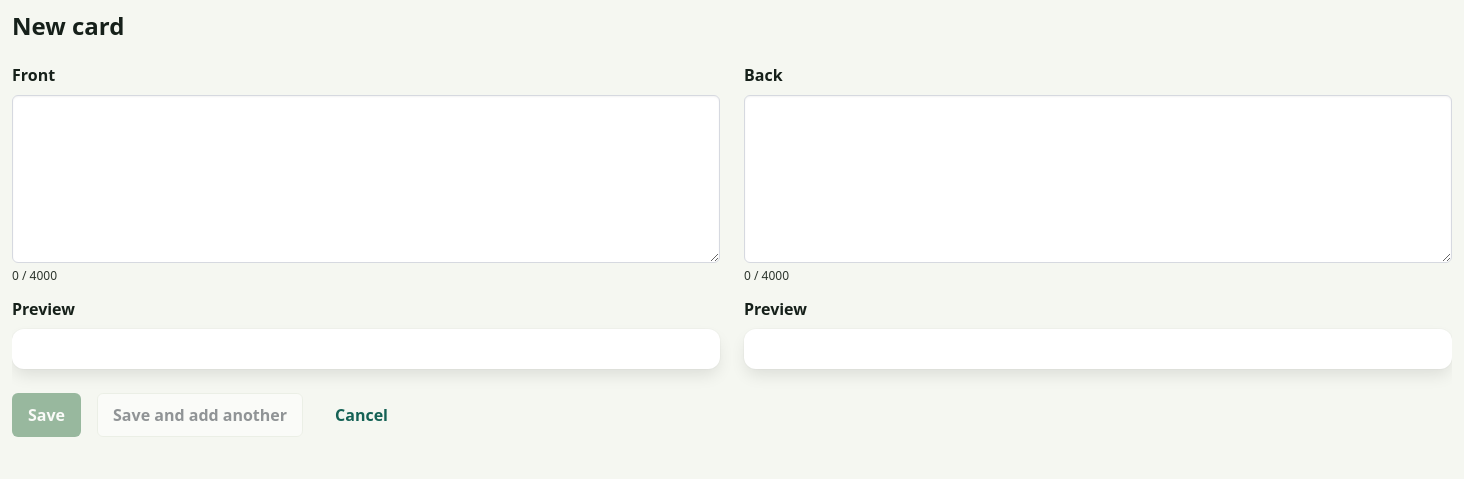
CardEditView › creating › can save once both faces have content
Type "ser" into the text box with test id "card-front" at (366, 179), box [12,95,720,263]
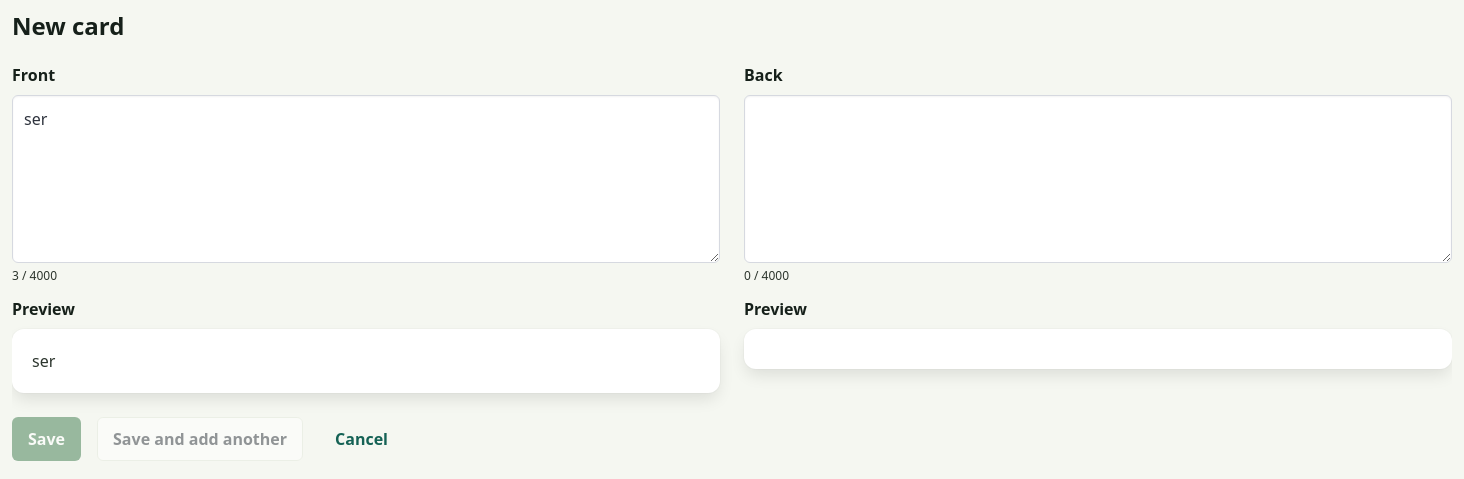
Type "to be" into the text box with test id "card-back" at (1098, 179), box [744,95,1452,263]
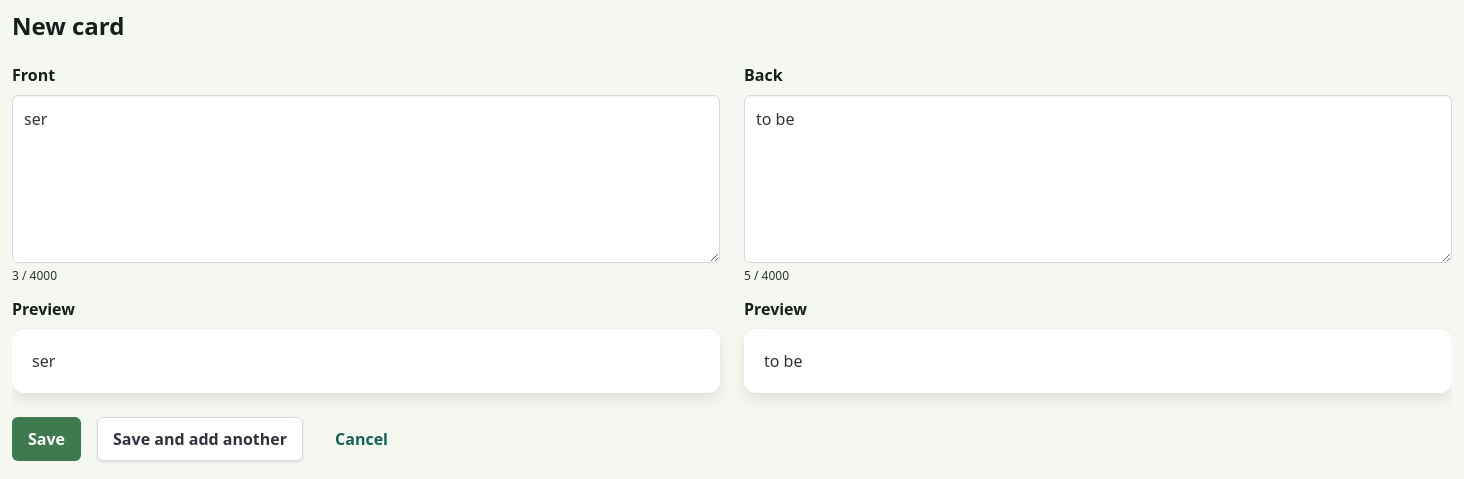
Check: the button with test id "card-save" is enabled, box [12,417,81,461]
